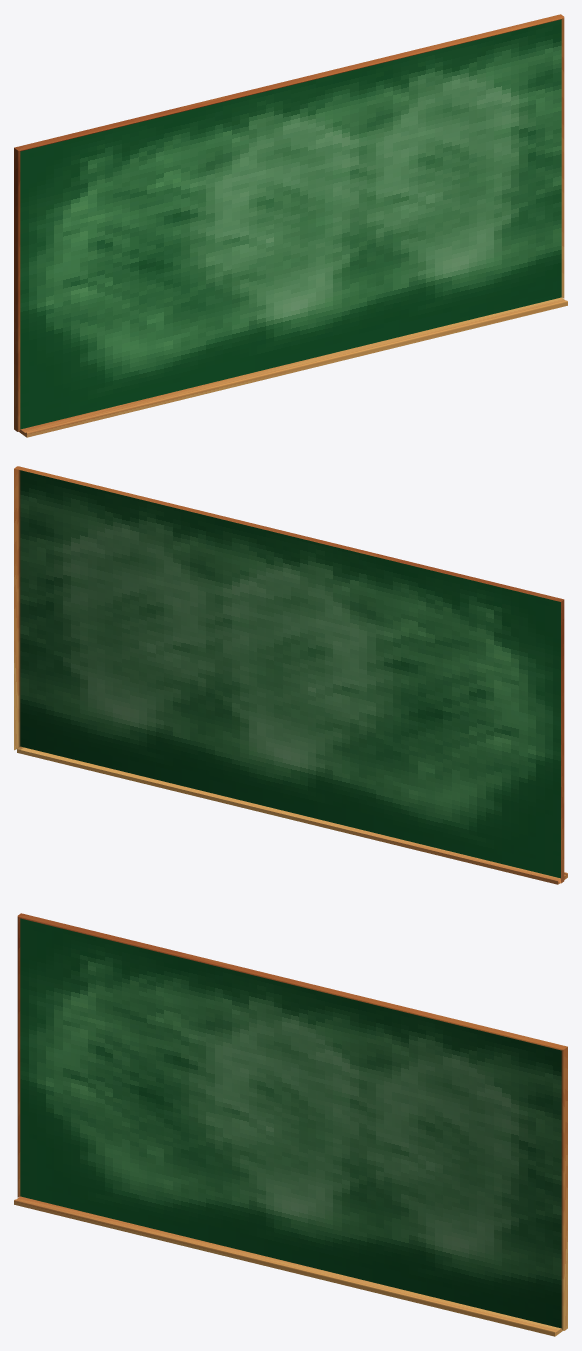
Rendered from school_chalkboard.glb.
3 renders of one model, top to bottom at view 1: azimuth 30°, elevation 25°; view 2: azimuth 150°, elevation 25°; view 3: azimuth 330°, elevation 25°, orthographic.
Visible parts, largest first — view 1: Pizarron; view 2: Pizarron; view 3: Pizarron.
Boxes of the visible parts, bbox=[...] form: Pizarron: bbox=[14, 14, 567, 437]; Pizarron: bbox=[14, 466, 567, 884]; Pizarron: bbox=[14, 913, 567, 1336].
Size of the model in its own units: 3 by 1.49 by 0.0949.
2 materials, 2 textured.
